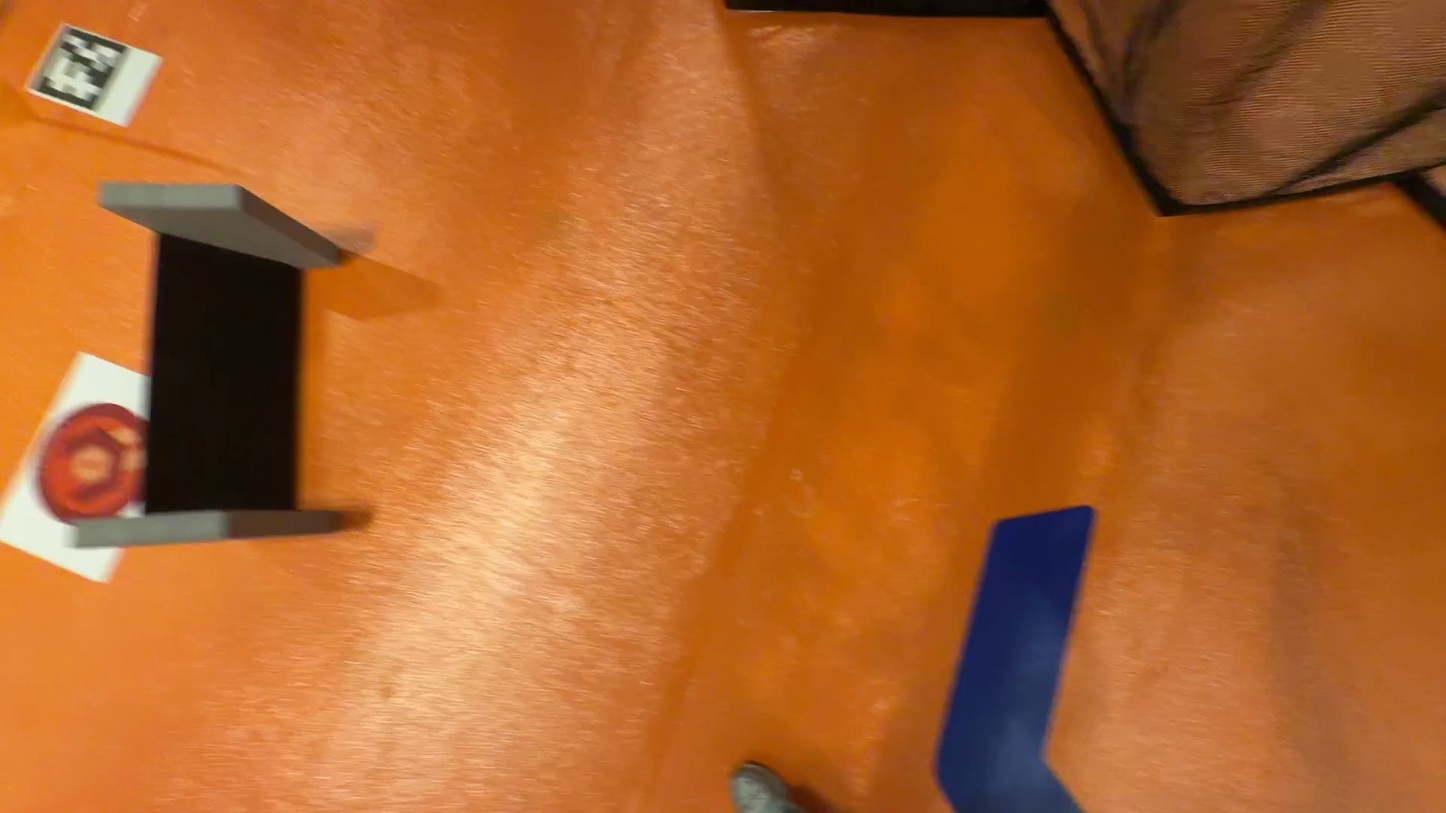landing_pad: (32, 400, 148, 526)
